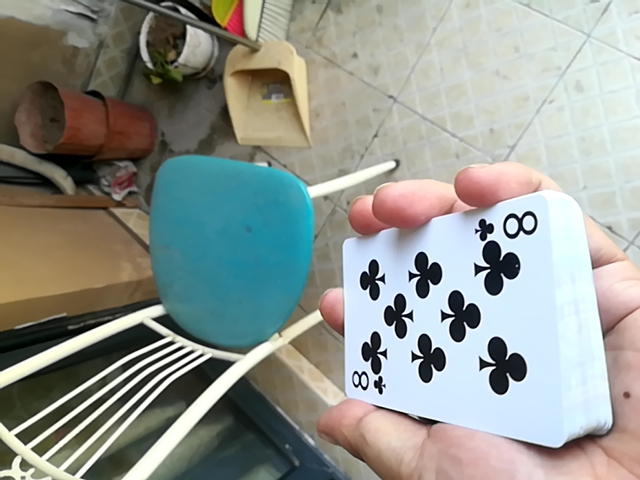mh 8: (318, 195, 607, 458)
